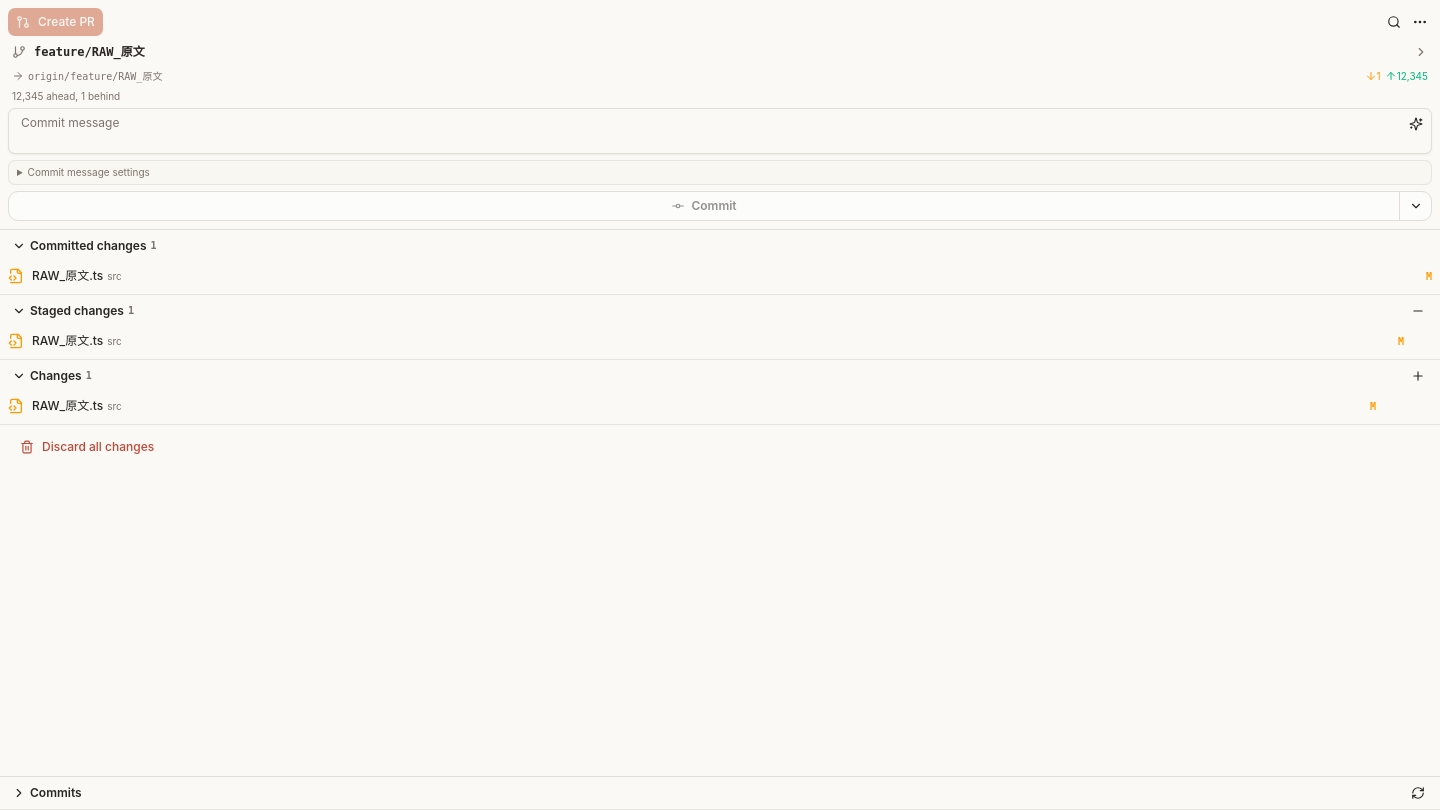
WorkspaceGitTab i18n › loads and highlights a file diff only after the file is selected
This screenshot has width=1440, height=810.
Click the 1st button titled "src/RAW_原文.ts": x=68, y=276 [8,262,1432,290]
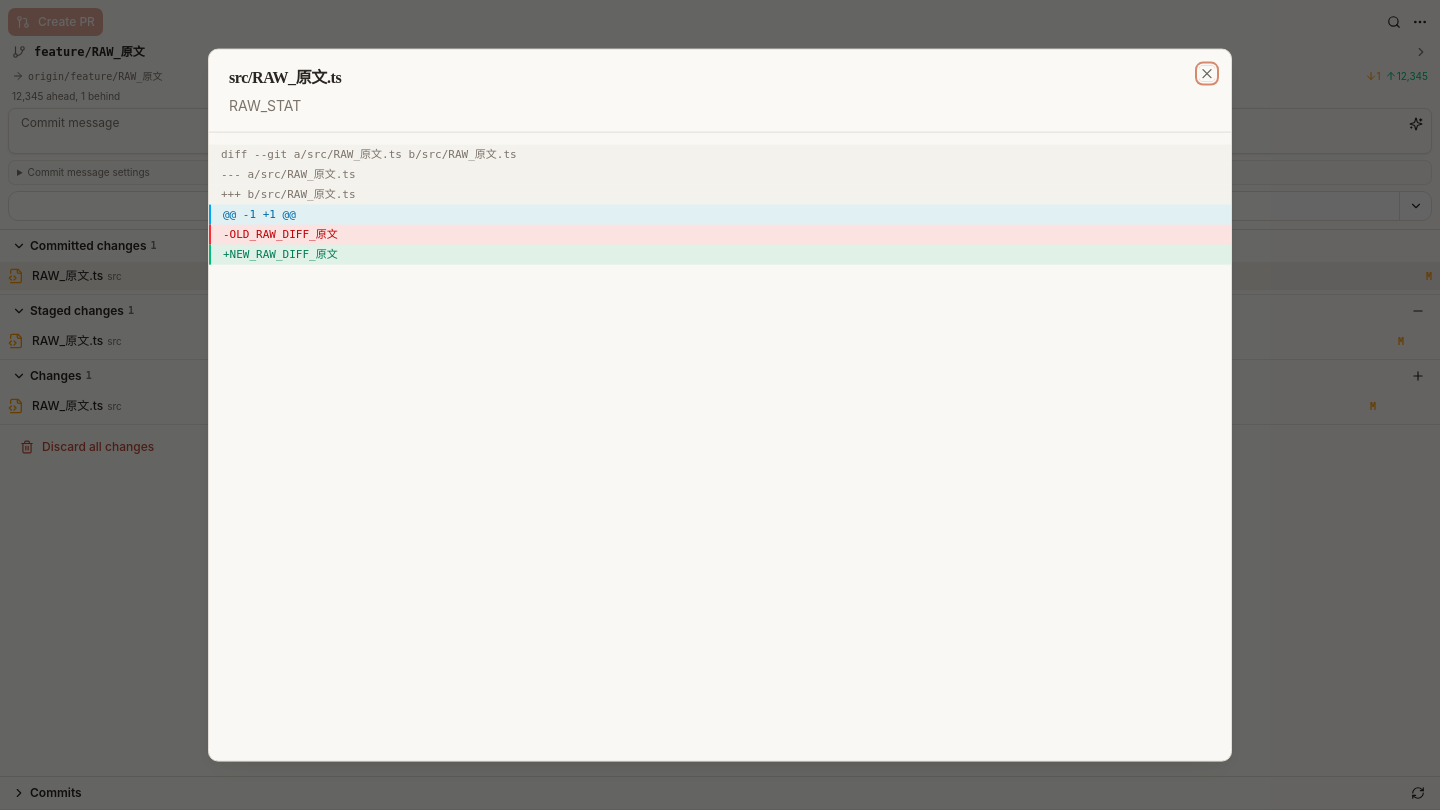
expect the dialog is shown: met
expect the text "+NEW_RAW_DIFF_原文" is shown: met, box [209,245,1231,265]
expect the text "-OLD_RAW_DIFF_原文" is shown: met, box [209,225,1231,245]
